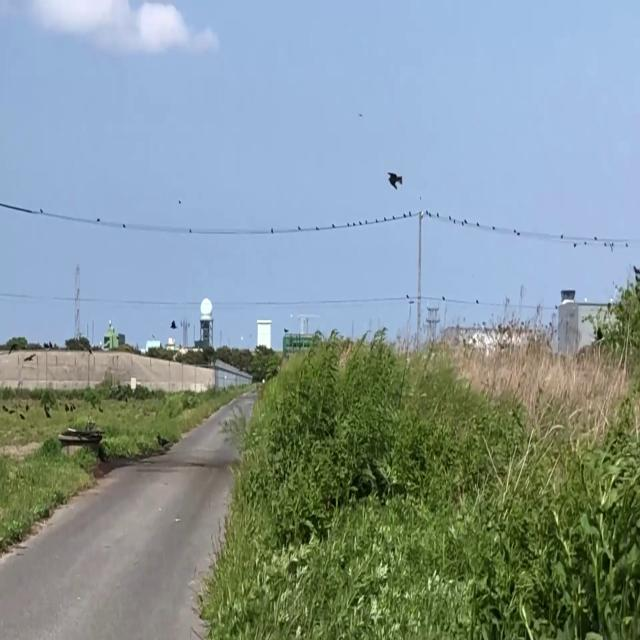bird: (388, 163, 402, 193), (65, 401, 69, 415)
